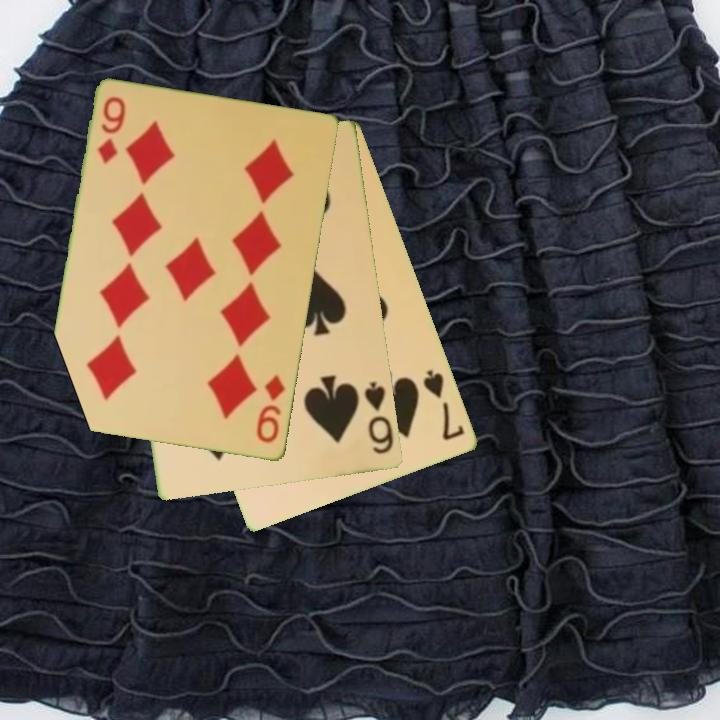6s: (361, 378, 397, 457)
7s: (420, 366, 468, 444)
9d: (253, 372, 289, 446), (94, 93, 129, 167)
